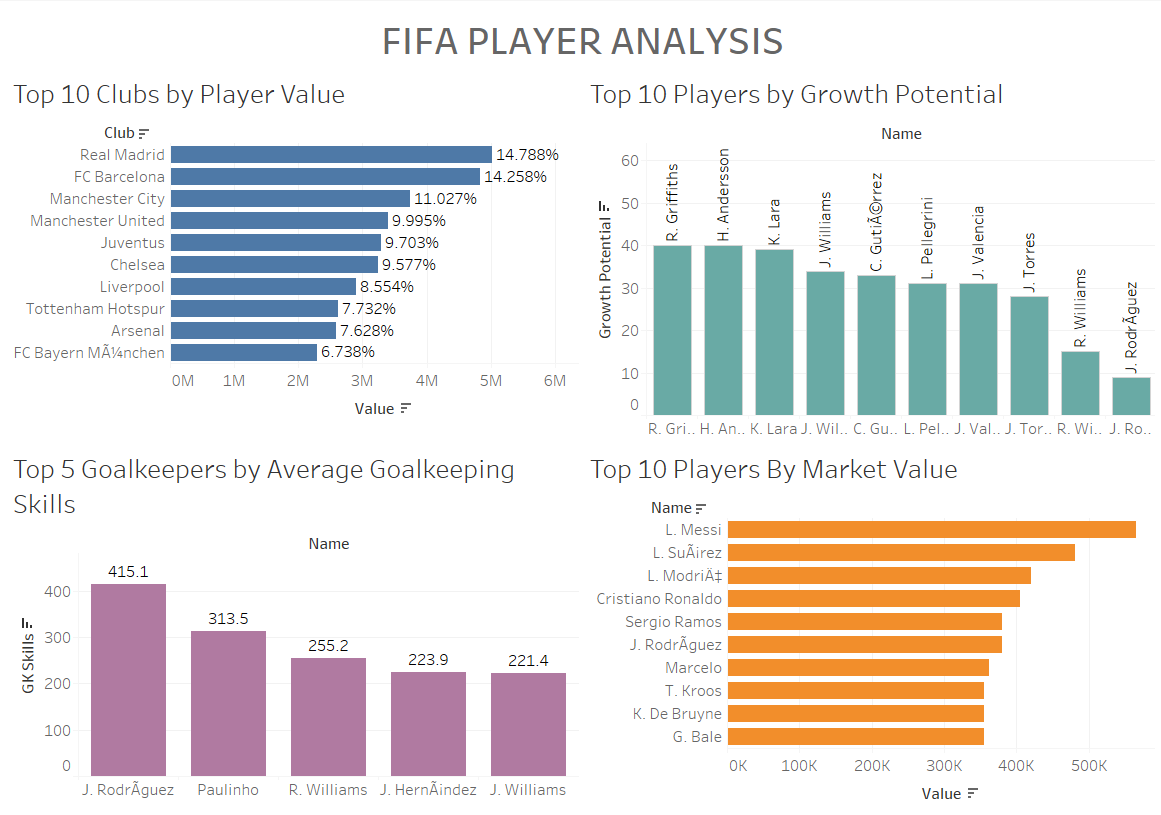

The page's visual inventory and layout, read from the dashboard file:
{"tool":"tableau","page":{"name":"Dashboard 1","canvas":[1169,827],"ordinal":0},"visuals":[{"type":"text","box":[8,8,1153,60]},{"type":"worksheet","title":"Top 10 Clubs by Player Value","mark":"Automatic","rows":["Club"],"cols":["Value"],"box":[8,68,576.5,361]},{"type":"worksheet","title":"Top 10 Players by Growth Potential","mark":"Automatic","rows":["Calculation_763641668007632901"],"cols":["Name"],"box":[584.5,68,576.5,375]},{"type":"worksheet","title":"Top 10 Players By Market Value","mark":"Automatic","rows":["Name"],"cols":["Value"],"box":[584.5,443,576.5,371]},{"type":"worksheet","title":"Top 5 Goalkeepers by Average Goalkeeping Skills","mark":"Automatic","rows":["Calculation_763641668011298822"],"cols":["Name"],"box":[8,443.5,576.5,375.5]}]}

Visuals, with their boxes in screenshot pixels (x1, y1, x2, y2), scaled from the page's 1169x827 canvas onto the 1161x815 screenshot:
text: crop(8, 8, 1153, 67)
"Top 10 Clubs by Player Value" worksheet: crop(8, 67, 580, 423)
"Top 10 Players by Growth Potential" worksheet: crop(580, 67, 1153, 437)
"Top 10 Players By Market Value" worksheet: crop(580, 437, 1153, 802)
"Top 5 Goalkeepers by Average Goalkeeping Skills" worksheet: crop(8, 437, 580, 807)
